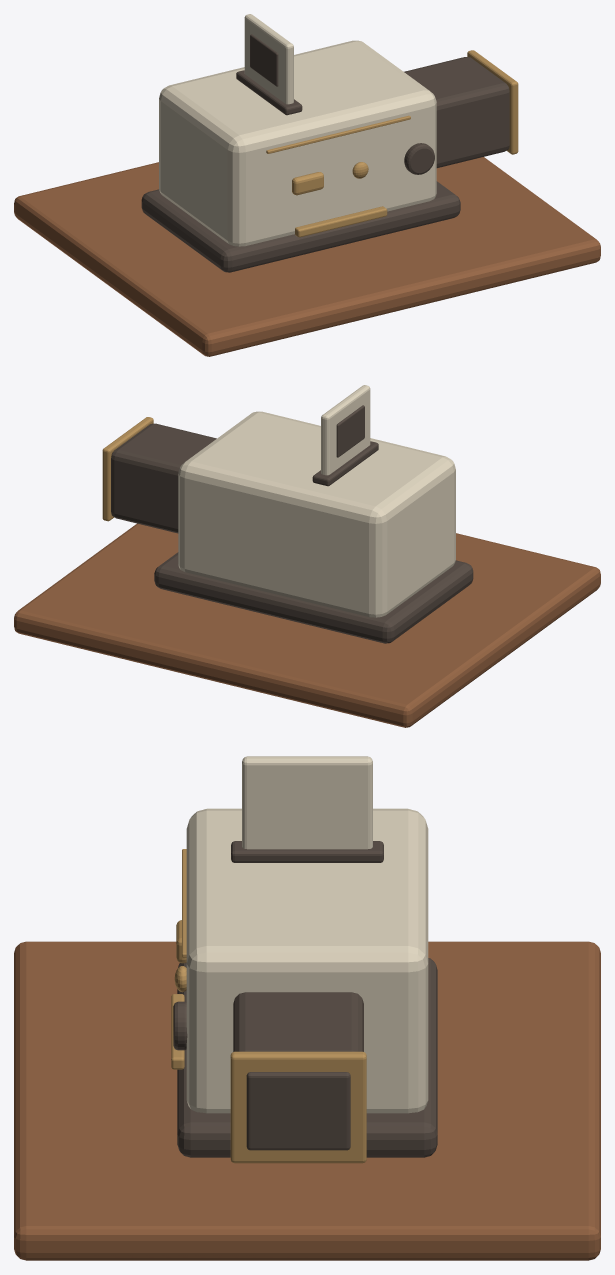
The model's file is projector.glb.
The picture shows the model from 3 angles, top to bottom: view 1: azimuth 30°, elevation 25°; view 2: azimuth 150°, elevation 25°; view 3: azimuth 270°, elevation 25°; orthographic projection. The views are drawn at different scales.
Visible parts, largest first — view 1: Wood_tabletop, Projector_body, Projector_base, Lens_housing, Inserted_slide_frame, Lens_brass_collar, Lower_brass_foot, Inserted_slide_window, Focus_knob, Slide_slot, Upper_brass_seam, Power_switch; view 2: Wood_tabletop, Projector_body, Projector_base, Lens_housing, Inserted_slide_frame, Lens_brass_collar, Inserted_slide_window, Slide_slot; view 3: Wood_tabletop, Projector_body, Inserted_slide_frame, Lens_glass, Lens_housing, Projector_base, Lens_brass_collar, Slide_slot, Focus_knob.
Boxes of the visible parts, bbox=[...] form: Wood_tabletop: bbox=[14, 157, 600, 356]; Projector_body: bbox=[159, 40, 436, 246]; Projector_base: bbox=[141, 181, 460, 272]; Lens_housing: bbox=[404, 57, 509, 167]; Inserted_slide_frame: bbox=[244, 14, 293, 104]; Lens_brass_collar: bbox=[467, 50, 518, 154]; Lower_brass_foot: bbox=[295, 206, 387, 237]; Inserted_slide_window: bbox=[250, 34, 278, 86]; Focus_knob: bbox=[404, 143, 434, 174]; Slide_slot: bbox=[236, 70, 302, 115]; Upper_brass_seam: bbox=[266, 115, 410, 153]; Power_switch: bbox=[292, 172, 323, 195]; Wood_tabletop: bbox=[14, 523, 600, 727]; Projector_body: bbox=[178, 411, 455, 617]; Projector_base: bbox=[154, 552, 473, 643]; Lens_housing: bbox=[111, 423, 216, 533]; Inserted_slide_frame: bbox=[321, 385, 370, 475]; Lens_brass_collar: bbox=[102, 417, 153, 521]; Inserted_slide_window: bbox=[336, 405, 364, 457]; Slide_slot: bbox=[312, 441, 378, 486]; Wood_tabletop: bbox=[14, 941, 600, 1260]; Projector_body: bbox=[186, 808, 428, 1113]; Inserted_slide_frame: bbox=[242, 756, 372, 849]; Lens_glass: bbox=[246, 1072, 350, 1150]; Lens_housing: bbox=[233, 992, 363, 1051]; Projector_base: bbox=[177, 958, 437, 1157]; Lens_brass_collar: bbox=[230, 1051, 366, 1163]; Slide_slot: bbox=[231, 841, 383, 862]; Focus_knob: bbox=[173, 1001, 187, 1050].
Size of the model in its own units: 6.23 by 3.31 by 5.3.
